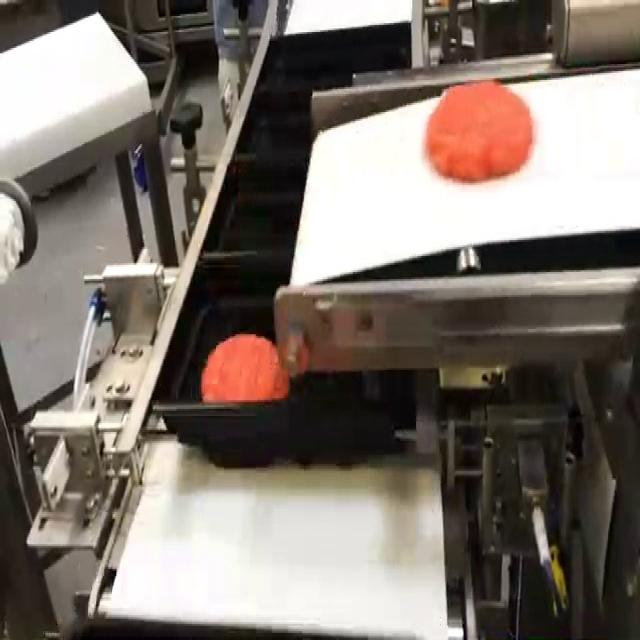hamburguer: (424, 82, 534, 181)
